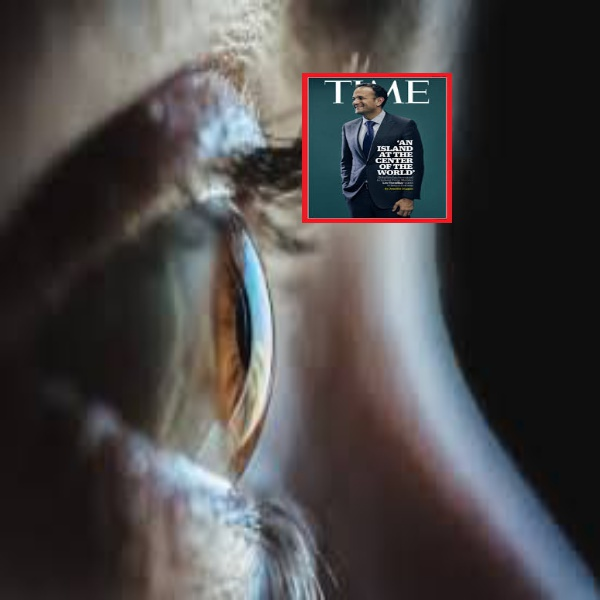time_cover: (302, 71, 456, 222)
